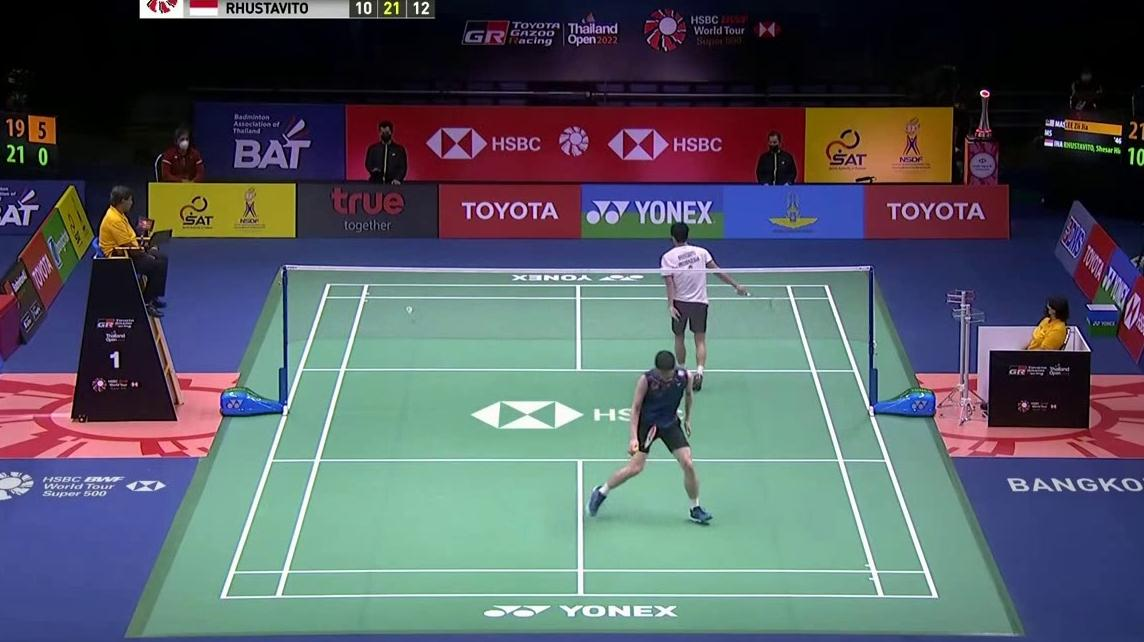racket: (733, 290, 798, 318), (627, 424, 659, 456)
shuttle: (404, 301, 417, 315)
